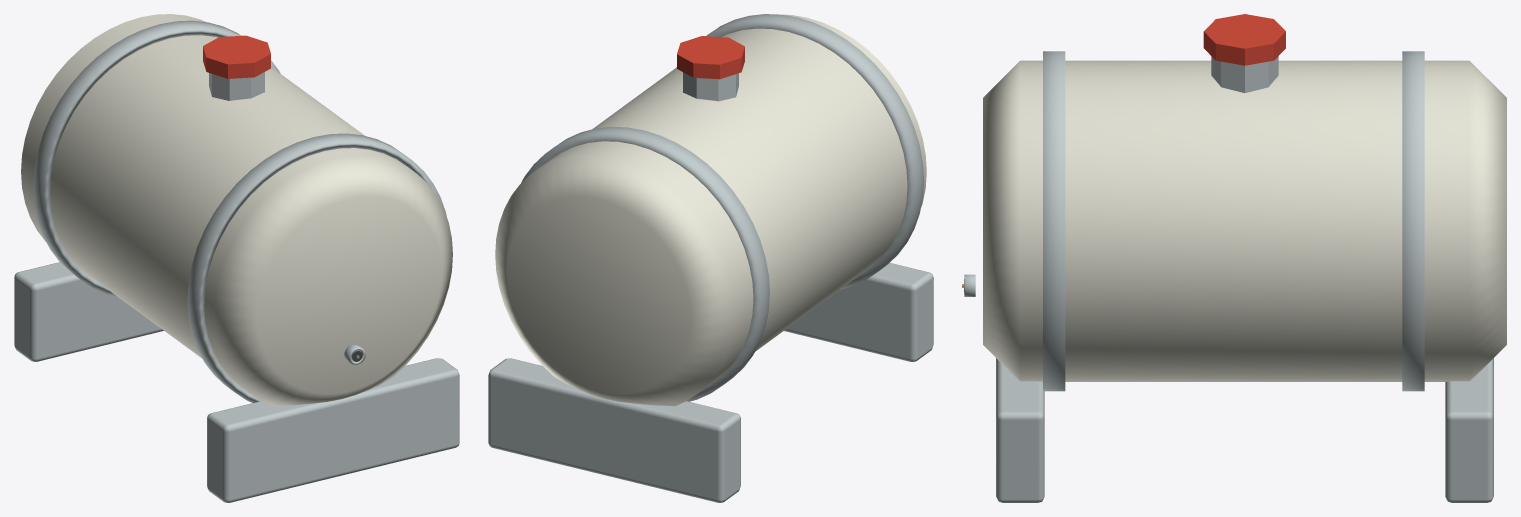
Rendered from broadcast-tower-and-relay-station-broadcast-tower-and--6b5cb9e8__30277.glb.
3 renders of one model, left to right at view 1: azimuth 30°, elevation 25°; view 2: azimuth 150°, elevation 25°; view 3: azimuth 270°, elevation 25°, orthographic. The views are drawn at different scales.
Parts seen in each view (by area): view 1: broadcast-tower-and-relay-station-fuel-tank; view 2: broadcast-tower-and-relay-station-fuel-tank; view 3: broadcast-tower-and-relay-station-fuel-tank.
Boxes of the visible parts, x1,y1,x2,y2 form: broadcast-tower-and-relay-station-fuel-tank: (14, 14, 459, 502); broadcast-tower-and-relay-station-fuel-tank: (488, 14, 933, 502); broadcast-tower-and-relay-station-fuel-tank: (962, 14, 1506, 502).
Size of the model in its own units: 0.9101 by 1.2 by 1.46.
